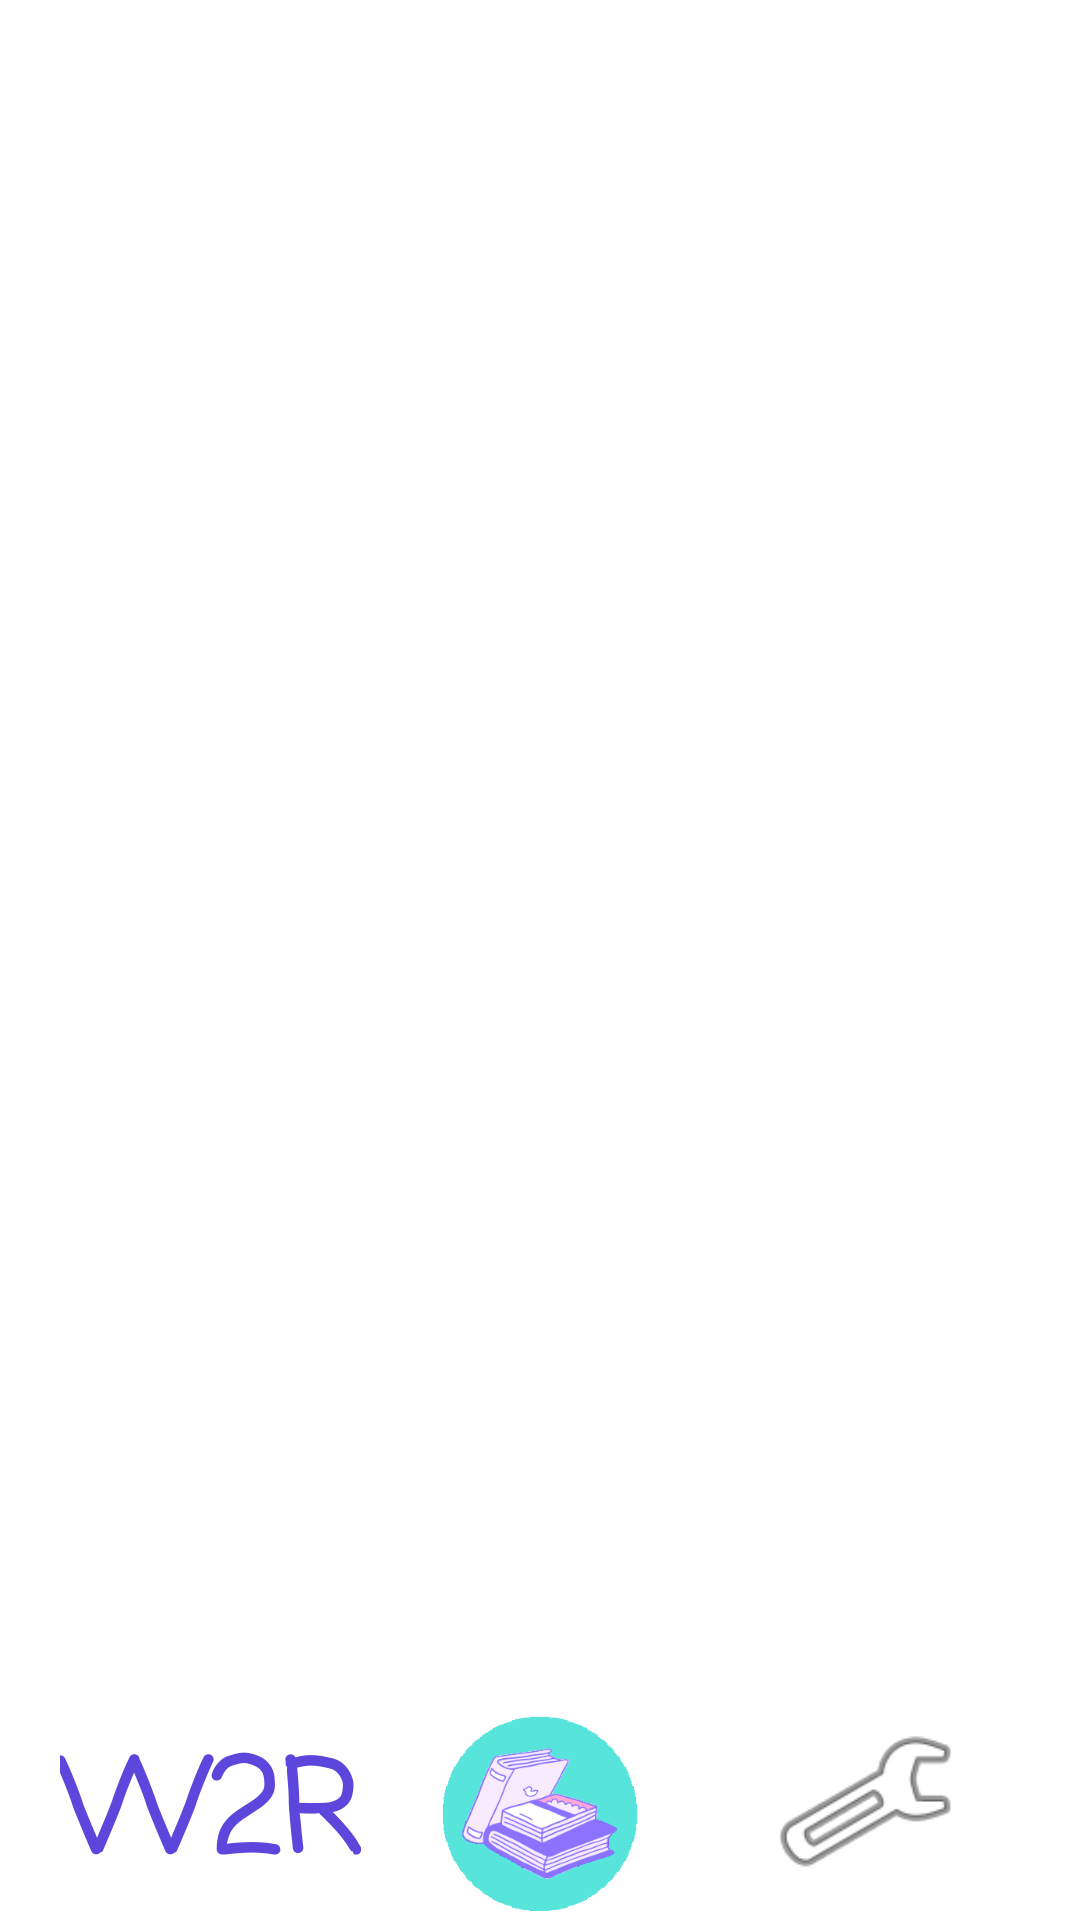

Point at icon controls on the screen. Image size 1080w x 1920h, points as [x,y].
manage: [865,1801]
